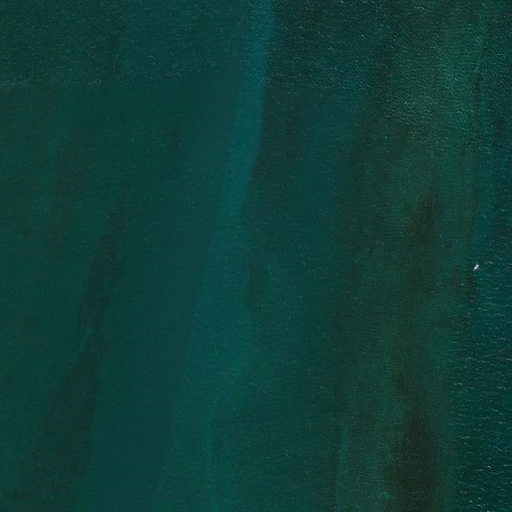ship: (473, 264, 479, 270)
